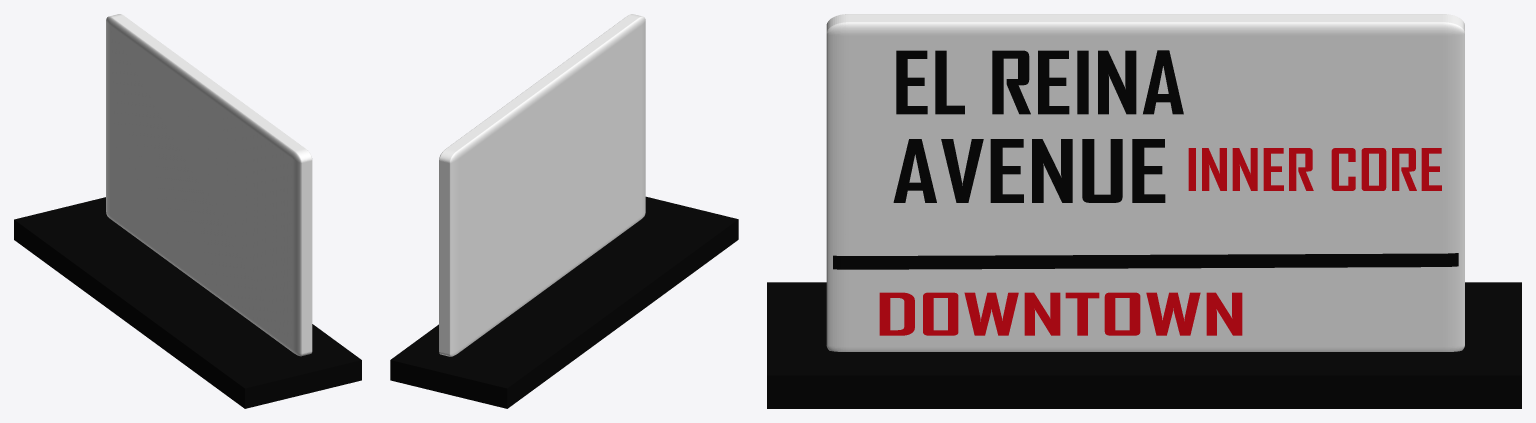
The model's file is uk_styled_street_sign_68.fbx.
3 renders of one model, left to right at view 1: azimuth 30°, elevation 25°; view 2: azimuth 150°, elevation 25°; view 3: azimuth 270°, elevation 25°, orthographic. The views are drawn at different scales.
Parts seen in each view (by area): view 1: Cube, Cube.001; view 2: Cube, Cube.001; view 3: Cube, Cube.001, Text.002, Text, Text.001, Text.003.
Boxes of the visible parts, <box> form: Cube: <box>106,14,312,356</box>; Cube.001: <box>14,197,361,408</box>; Cube: <box>439,14,645,356</box>; Cube.001: <box>390,196,738,408</box>; Cube: <box>826,14,1464,351</box>; Cube.001: <box>767,282,1521,408</box>; Text.002: <box>879,292,1242,335</box>; Text: <box>896,50,1183,114</box>; Text.001: <box>893,139,1165,202</box>; Text.003: <box>1188,148,1441,190</box>.
Bounding box in the file's own units: 12 × 21.71 × 41.07.
